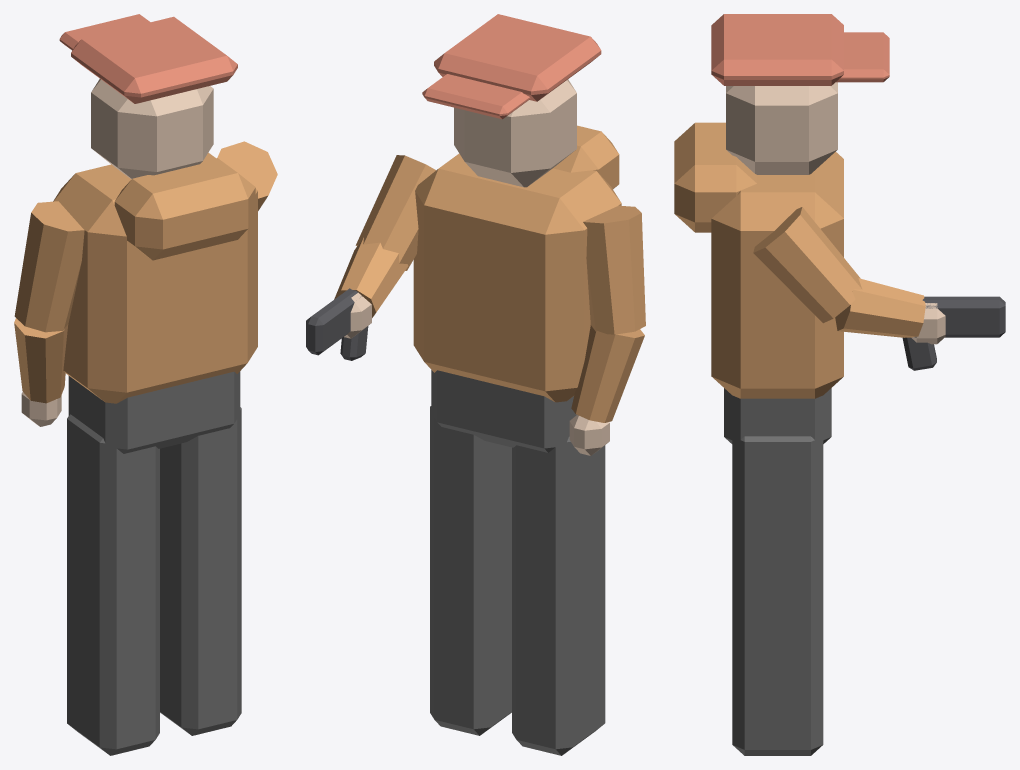
File: SM_StreetRunner.glb
3 views of the same model, side by side, from view 1: azimuth 30°, elevation 25°; view 2: azimuth 150°, elevation 25°; view 3: azimuth 270°, elevation 25° (orthographic).
Visible parts, largest first — view 1: SM_StreetRunner; view 2: SM_StreetRunner; view 3: SM_StreetRunner.
Part boxes in pixels (x1=…): SM_StreetRunner: x1=14, y1=14, x2=277, y2=755; SM_StreetRunner: x1=306, y1=14, x2=645, y2=755; SM_StreetRunner: x1=674, y1=14, x2=1005, y2=755.
Size of the model in its own units: 0.7201 by 1.83 by 0.8.
